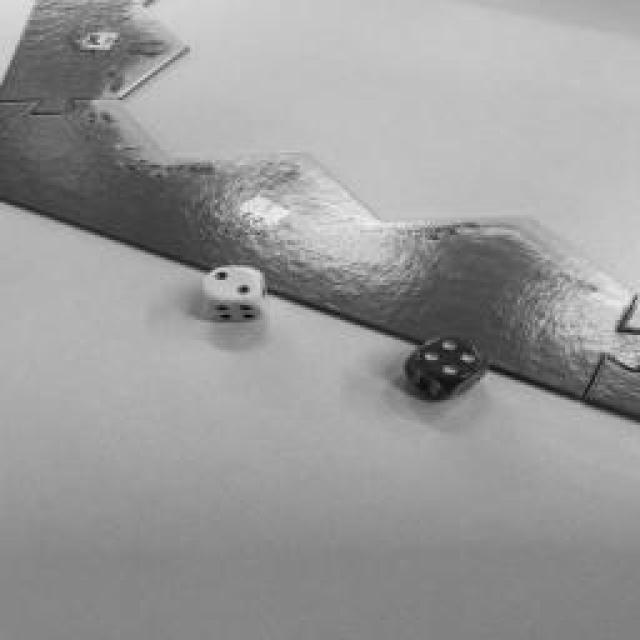dice_2: (204, 266, 261, 302)
dice_4: (414, 336, 484, 382)
